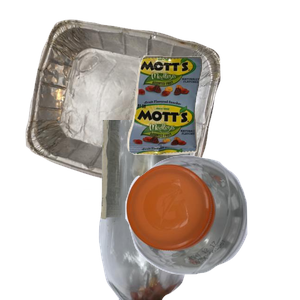glass: (96, 120, 283, 300)
metal: (23, 17, 236, 197)
plastic: (123, 152, 300, 300)
trash: (125, 53, 300, 201)
